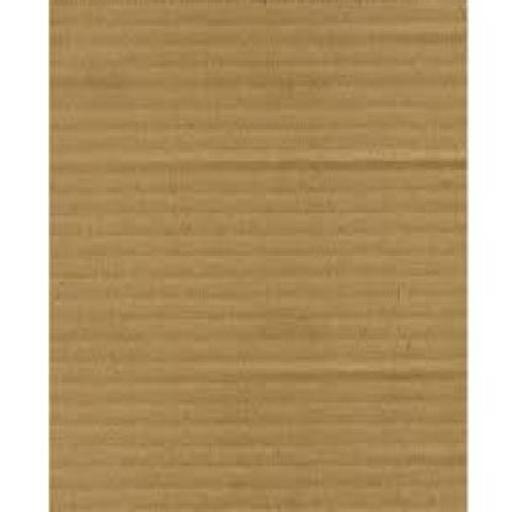cardboard: (52, 2, 469, 511)
